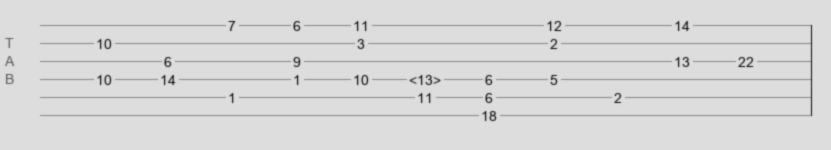1: (228, 90, 236, 100), (293, 72, 301, 82)
10: (96, 72, 112, 82), (96, 36, 112, 46), (353, 72, 369, 82)
11: (353, 18, 369, 28), (417, 90, 433, 100)
12: (546, 18, 562, 28)
13: (674, 54, 690, 64)
14: (160, 72, 176, 82), (674, 18, 690, 28)
18: (481, 108, 497, 118)
2: (550, 36, 558, 46), (614, 90, 622, 100)
22: (738, 54, 754, 64)
3: (357, 36, 365, 46)
5: (550, 72, 558, 82)
6: (164, 54, 172, 64), (293, 18, 301, 28), (485, 90, 493, 100), (485, 72, 493, 82)
7: (228, 18, 236, 28)
9: (293, 54, 301, 64)
harmonic: (409, 72, 441, 82)
